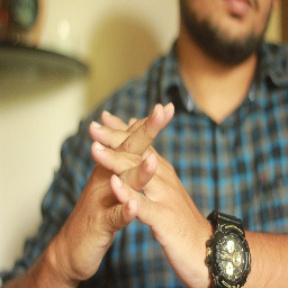W: (69, 96, 195, 251)
